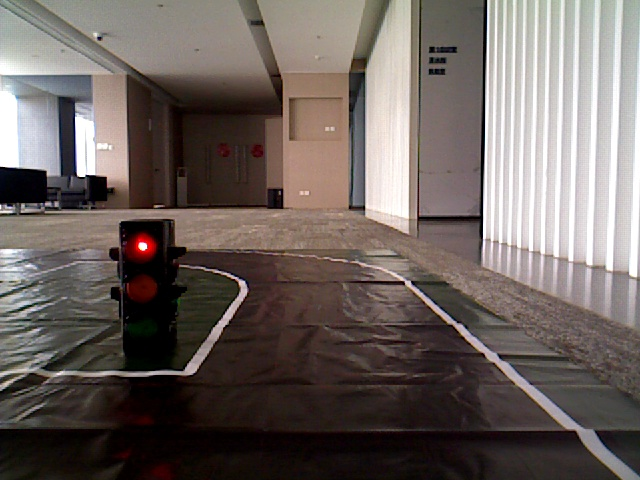red: (116, 223, 171, 355)
